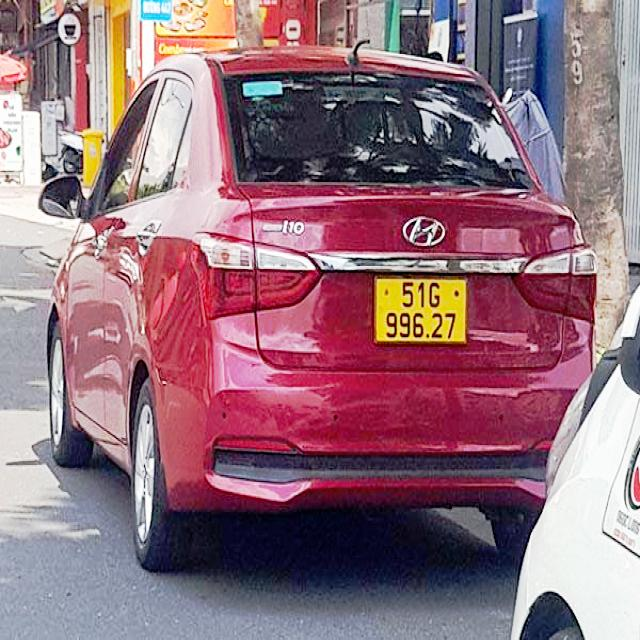license_plate: (376, 278, 468, 341)
